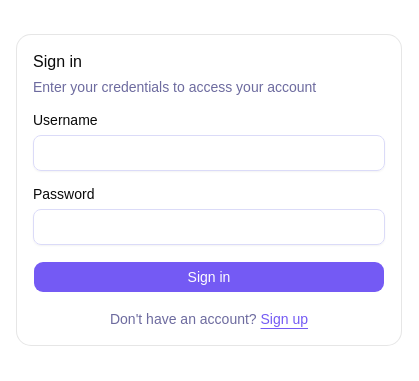
Test: LoginPage › shows error on failed login
Type "baduser" into the field labelled "Username" at (209, 153), box x1=33 y1=135 x2=385 y2=171
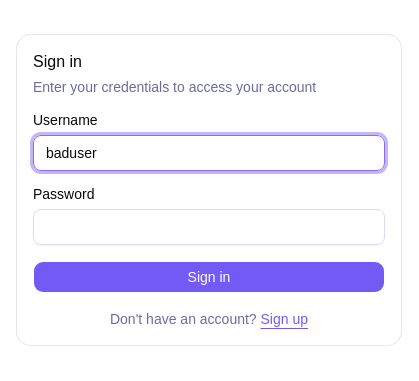
Type "wrongpass" into the password field labelled "Password" at (209, 227), box x1=33 y1=209 x2=385 y2=245
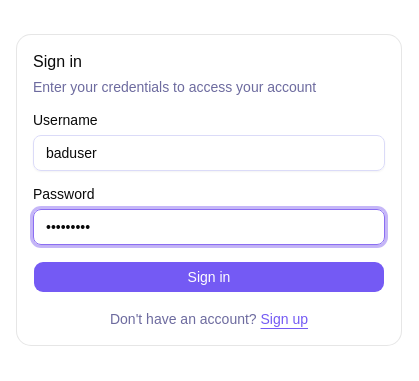
Click the button "Sign in" at (209, 277), box x1=33 y1=261 x2=385 y2=293
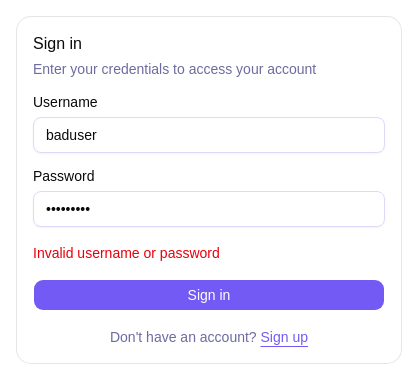
expect the text "Invalid username or password" is shown: met, box x1=33 y1=245 x2=220 y2=261
